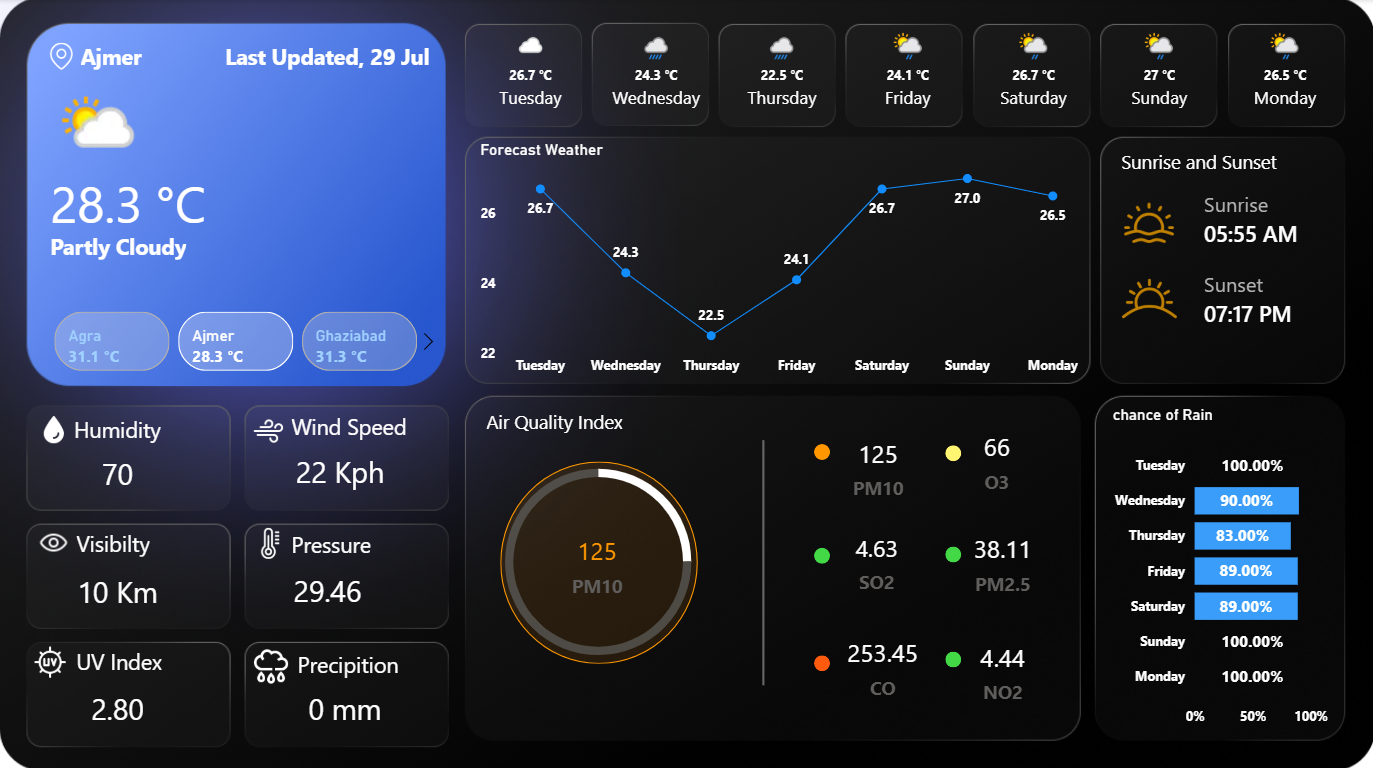

Layout of this report page (visuals, bound fields, positions):
{"tool":"powerbi","page":{"name":"Page 1","canvas":[1280,720],"ordinal":0},"visuals":[{"type":"shape","box":[466.3,430.2,183.7,188.4],"z":0},{"type":"advancedSlicerVisual","fields":{"Values":["Locations.location.name"]},"box":[26.7,286,388.4,65.1],"z":1000},{"type":"shape","box":[48,153.7,170.2,71.4],"z":2000},{"type":"shape","box":[48,208.6,322.5,42.5],"z":3000},{"type":"shape","box":[70,31.6,150.9,42.5],"z":4000},{"type":"shape","box":[209.9,31.6,277.2,42.5],"z":5000},{"type":"cardVisual","fields":{"Data":["Min(Current.current.condition.icon)"]},"box":[35.7,63.1,97.4,107],"z":6000},{"type":"image","box":[35.7,35.7,43.9,34.3],"z":7000},{"type":"image","box":[32.9,381.5,37,38.4],"z":8000},{"type":"shape","box":[70,380.1,138.6,39.8],"z":9000},{"type":"image","box":[26.1,485.8,50.8,39.8],"z":10000},{"type":"shape","box":[70,485.8,138.6,39.8],"z":11000},{"type":"image","box":[26.1,596.9,43.9,41.2],"z":12000},{"type":"shape","box":[70,596.9,138.6,39.8],"z":13000},{"type":"image","box":[231.9,377.4,38.4,48],"z":14000},{"type":"shape","box":[270.3,377.4,138.6,39.8],"z":15000},{"type":"image","box":[226.4,487.1,50.8,38.4],"z":16000},{"type":"shape","box":[270.3,487.1,138.6,39.8],"z":17000},{"type":"image","box":[227.8,596.9,50.8,49.4],"z":18000},{"type":"shape","box":[275.8,598.3,138.6,39.8],"z":19000},{"type":"card","fields":{"Values":["Sum(Current.current.humidity)"]},"box":[57.3,418.1,106.8,49.5],"z":20000},{"type":"card","fields":{"Values":["Measure.Wind_Speed"]},"box":[264.4,415.5,106.8,52.1],"z":21000},{"type":"card","fields":{"Values":["Measure.Visi"]},"box":[57.3,527.5,106.8,49.5],"z":22000},{"type":"card","fields":{"Values":["Sum(Current.current.pressure_in)"]},"box":[252.7,526.2,106.8,49.5],"z":23000},{"type":"card","fields":{"Values":["Sum(Current.current.uv)"]},"box":[57.3,636.9,106.8,49.5],"z":24000},{"type":"card","fields":{"Values":["Measure.pre"]},"box":[264.4,636.9,115.9,49.5],"z":25000},{"type":"advancedSlicerVisual","fields":{"Values":["Forcast_Days.Day_Name"]},"box":[434.4,20.9,825.8,99.4],"z":26000},{"type":"lineChart","title":"Forecast Weather","fields":{"Y":["Sum(Forcast_Days.forecast.forecastday.day.avgtemp_c)"],"Category":["Forcast_Days.Day_Name"]},"box":[442.9,131.3,574.2,228.2],"z":27000},{"type":"shape","box":[1041.7,131.3,209.8,38],"z":28000},{"type":"shape","box":[1121.5,190.2,106.7,54],"z":29000},{"type":"shape","box":[1121.5,265,106.7,54],"z":30000},{"type":"shape","box":[1121.5,169.3,106.7,41.7],"z":31000},{"type":"shape","box":[1121.5,244.2,106.7,41.7],"z":32000},{"type":"image","box":[1031.4,230.2,77.9,96.5],"z":33000},{"type":"image","box":[1031.9,180.4,77.3,56.4],"z":34000},{"type":"hundredPercentStackedBarChart","title":"chance of Rain","fields":{"Category":["Forcast_Days.Day_Name"],"Y":["Sum(Forcast_Days.forecast.forecastday.day.daily_chance_of_rain)","Current.Left_Value_Rain"]},"box":[1031.9,377.9,209.8,308],"z":35000},{"type":"shape","box":[451.5,369.3,209.8,46.6],"z":36000},{"type":"card","fields":{"Values":["Sum(Current.current.air_quality.o3)"]},"box":[894.8,391.6,66.3,74.9],"z":37000},{"type":"card","fields":{"Values":["Sum(Current.current.air_quality.pm2_5)"]},"box":[894.8,486.1,77.3,76.1],"z":38000},{"type":"card","fields":{"Values":["Sum(Current.current.air_quality.no2)"]},"box":[894.8,588,77.3,73.6],"z":39000},{"type":"card","fields":{"Values":["Sum(Current.current.air_quality.pm10)"]},"box":[518.1,488.2,76,76],"z":40000},{"type":"card","fields":{"Values":["Sum(Current.current.air_quality.so2)"]},"box":[775.8,486.1,82.2,74.9],"z":41000},{"type":"card","fields":{"Values":["Sum(Current.current.air_quality.co)"]},"box":[775.9,584.1,93.4,74.7],"z":42000},{"type":"shape","box":[758.4,413.5,15,15],"z":43000},{"type":"shape","box":[758.4,510.6,14.9,14.9],"z":44000},{"type":"shape","box":[758.4,610.2,14.9,14.9],"z":45000},{"type":"shape","box":[880.5,414.7,14.9,14.9],"z":46000},{"type":"shape","box":[880.5,509.4,14.9,14.9],"z":47000},{"type":"shape","box":[880.5,606.5,14.9,14.9],"z":48000},{"type":"donutChart","fields":{"Y":["Sum(Current.current.air_quality.pm10)","Measure.Left_value_pm10"]},"box":[434.9,410.5,245.3,226.7],"z":49000},{"type":"shape","box":[594.2,410.5,233.7,227.9],"z":50000},{"type":"card","fields":{"Values":["Sum(Current.current.air_quality.pm10)"]},"box":[784.9,397.7,66.3,75.6],"z":50001}]}

Visuals, with their boxes in screenshot pixels (x1, y1, x2, y2), scaled from the page's 1280x720 canvas onto the 1373x768 screenshot:
shape: (500, 459, 697, 660)
advancedSlicerVisual - Locations.location.name: (29, 305, 445, 375)
shape: (51, 164, 234, 240)
shape: (51, 223, 397, 268)
shape: (75, 34, 237, 79)
shape: (225, 34, 522, 79)
cardVisual - Min(Current.current.condition.icon): (38, 67, 143, 181)
image: (38, 38, 85, 75)
image: (35, 407, 75, 448)
shape: (75, 405, 224, 448)
image: (28, 518, 82, 561)
shape: (75, 518, 224, 561)
image: (28, 637, 75, 681)
shape: (75, 637, 224, 679)
image: (249, 403, 290, 454)
shape: (290, 403, 439, 445)
image: (243, 520, 297, 561)
shape: (290, 520, 439, 562)
image: (244, 637, 299, 689)
shape: (296, 638, 445, 681)
card - Sum(Current.current.humidity): (61, 446, 176, 499)
card - Measure.Wind_Speed: (284, 443, 398, 499)
card - Measure.Visi: (61, 563, 176, 615)
card - Sum(Current.current.pressure_in): (271, 561, 386, 614)
card - Sum(Current.current.uv): (61, 679, 176, 732)
card - Measure.pre: (284, 679, 408, 732)
advancedSlicerVisual - Forcast_Days.Day_Name: (466, 22, 1352, 128)
"Forecast Weather" lineChart: (475, 140, 1091, 383)
shape: (1117, 140, 1342, 181)
shape: (1203, 203, 1317, 260)
shape: (1203, 283, 1317, 340)
shape: (1203, 181, 1317, 225)
shape: (1203, 260, 1317, 305)
image: (1106, 246, 1190, 348)
image: (1107, 192, 1190, 253)
"chance of Rain" hundredPercentStackedBarChart: (1107, 403, 1332, 732)
shape: (484, 394, 709, 444)
card - Sum(Current.current.air_quality.o3): (960, 418, 1031, 498)
card - Sum(Current.current.air_quality.pm2_5): (960, 519, 1043, 600)
card - Sum(Current.current.air_quality.no2): (960, 627, 1043, 706)
card - Sum(Current.current.air_quality.pm10): (556, 521, 637, 602)
card - Sum(Current.current.air_quality.so2): (832, 519, 920, 598)
card - Sum(Current.current.air_quality.co): (832, 623, 932, 703)
shape: (814, 441, 830, 457)
shape: (814, 545, 829, 561)
shape: (814, 651, 829, 667)
shape: (944, 442, 960, 458)
shape: (944, 543, 960, 559)
shape: (944, 647, 960, 663)
donutChart - Sum(Current.current.air_quality.pm10) x Measure.Left_value_pm10: (466, 438, 730, 680)
shape: (637, 438, 888, 681)
card - Sum(Current.current.air_quality.pm10): (842, 424, 913, 505)
